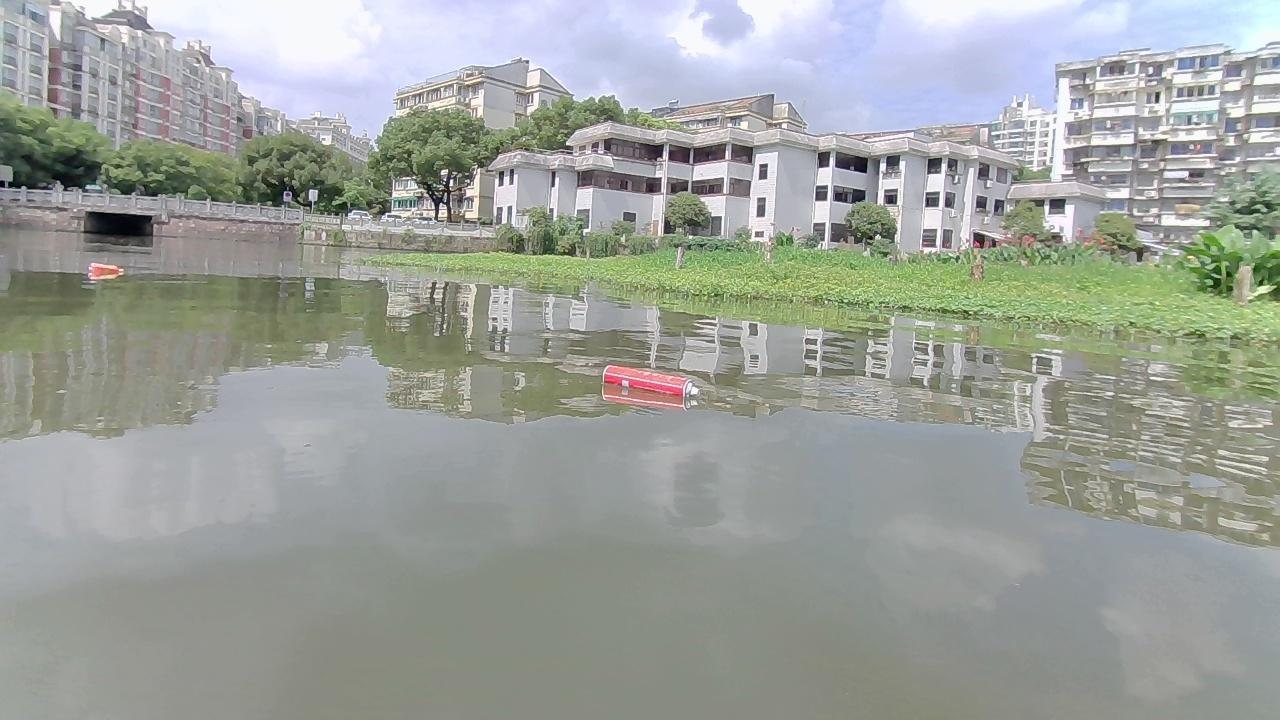bottle: (601, 363, 700, 395), (86, 261, 123, 273)
